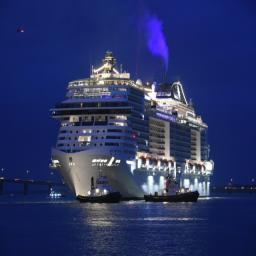cruises: (49, 51, 223, 208)
